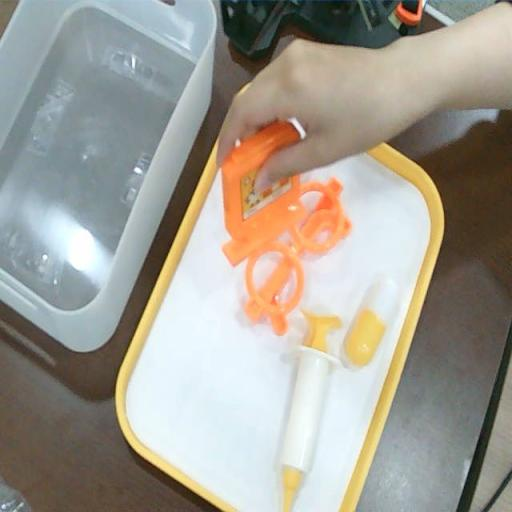hospital: (212, 34, 404, 181)
